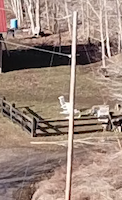pole: (58, 10, 90, 200)
